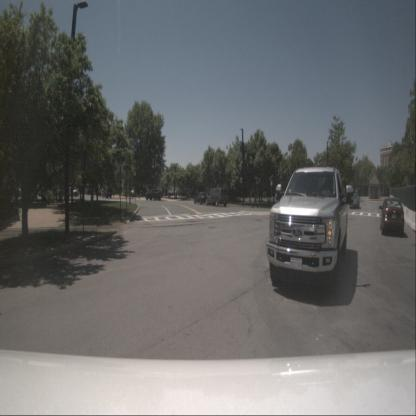vehicle-car: (267, 166, 348, 291), (380, 198, 404, 236), (206, 189, 227, 206), (146, 188, 162, 201), (194, 191, 208, 204), (349, 193, 360, 209), (66, 187, 78, 197), (102, 187, 112, 198)
